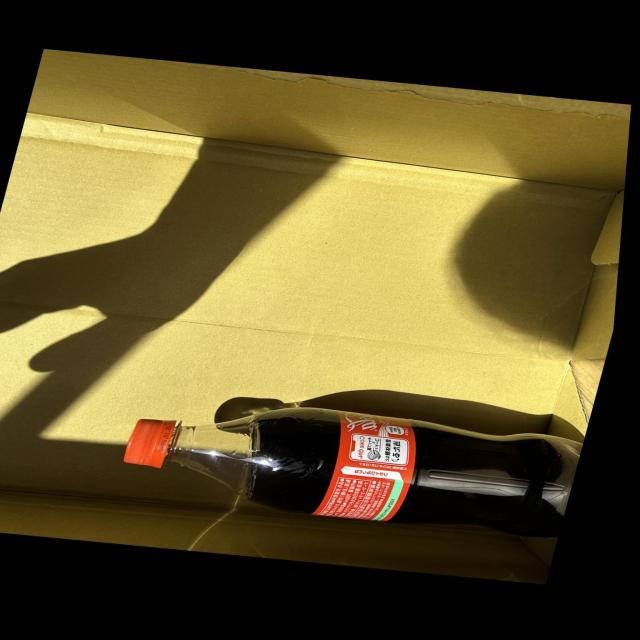high: (124, 405, 582, 537)
